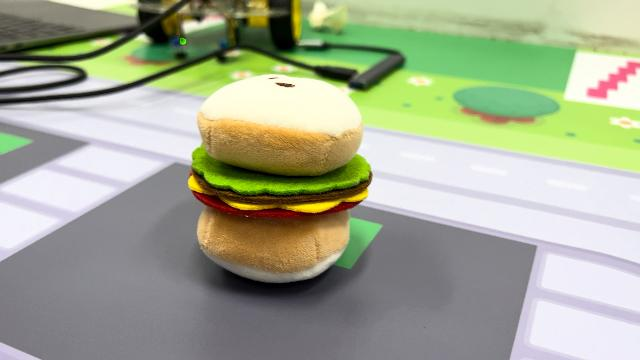sandwich: (186, 71, 374, 285)
